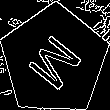M_SE: (22, 26, 87, 94)
